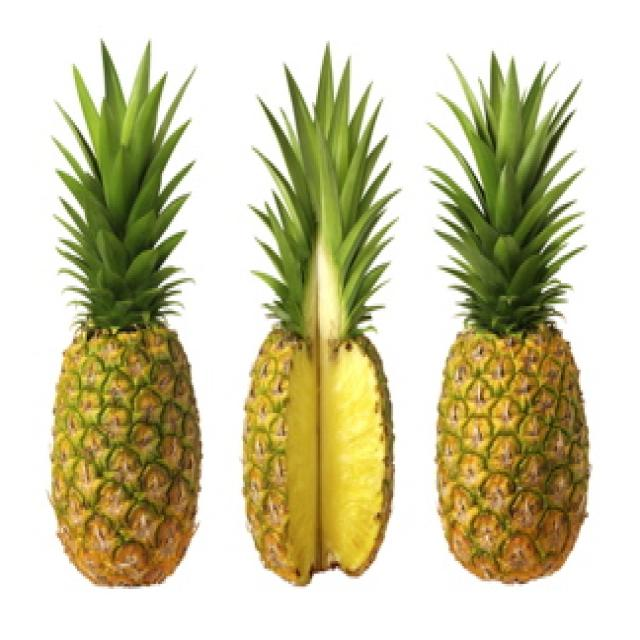pineapple: (32, 274, 216, 597), (236, 272, 410, 583), (422, 272, 588, 587)
